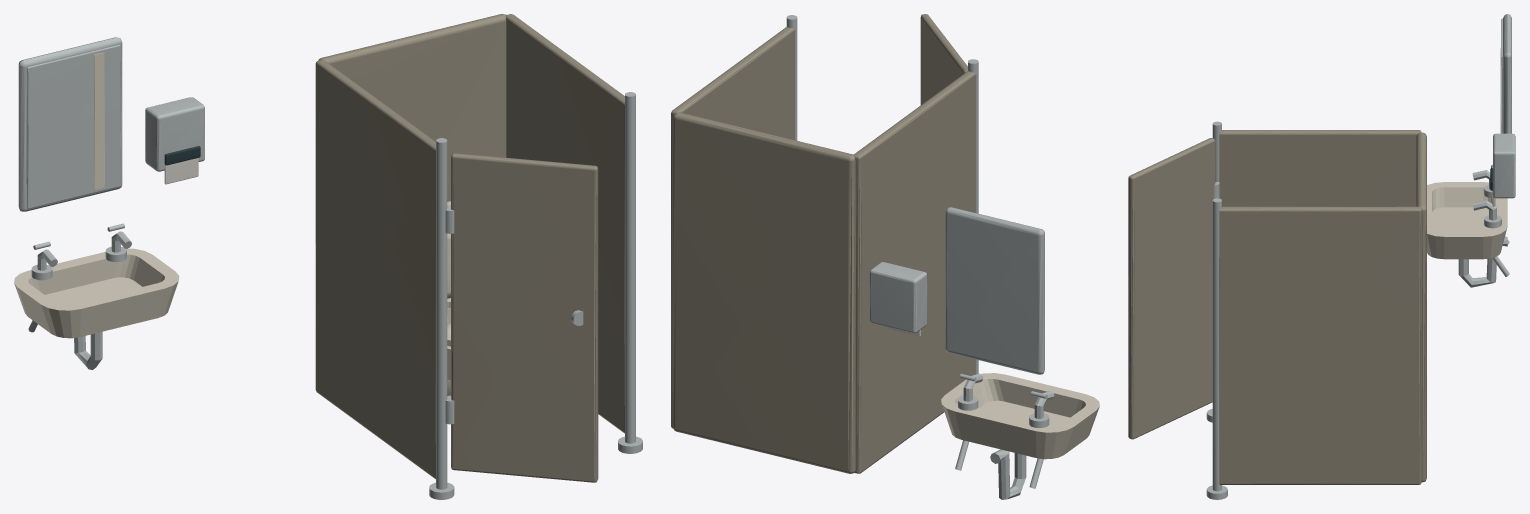
File: 13_restroom_starter_assembly.glb
3 views of the same model, side by side, from view 1: azimuth 30°, elevation 25°; view 2: azimuth 150°, elevation 25°; view 3: azimuth 270°, elevation 25° (orthographic). The views are drawn at different scales.
Visible parts, largest first — view 1: 13_starter_cubicle__Static, 13_starter_cubicle__door_moving, 13_starter_mirror__Static, 13_starter_washstand__Static, 13_starter_towel_dispenser__Static; view 2: 13_starter_cubicle__Static, 13_starter_mirror__Static, 13_starter_washstand__Static, 13_starter_towel_dispenser__Static, 13_starter_cubicle__door_moving; view 3: 13_starter_cubicle__Static, 13_starter_cubicle__door_moving, 13_starter_washstand__Static, 13_starter_towel_dispenser__Static, 13_starter_mirror__Static.
Boxes of the visible parts, x1,y1,x2,y2 form: 13_starter_cubicle__Static: (315, 14, 642, 499); 13_starter_cubicle__door_moving: (451, 153, 598, 482); 13_starter_mirror__Static: (18, 37, 122, 211); 13_starter_washstand__Static: (14, 223, 179, 369); 13_starter_towel_dispenser__Static: (145, 97, 204, 184); 13_starter_cubicle__Static: (671, 15, 978, 473); 13_starter_mirror__Static: (945, 207, 1044, 374); 13_starter_washstand__Static: (941, 373, 1099, 499); 13_starter_towel_dispenser__Static: (869, 262, 927, 336); 13_starter_cubicle__door_moving: (920, 14, 967, 104); 13_starter_cubicle__Static: (1206, 121, 1426, 499); 13_starter_cubicle__door_moving: (1128, 138, 1215, 439); 13_starter_washstand__Static: (1427, 164, 1509, 287); 13_starter_towel_dispenser__Static: (1490, 133, 1515, 206); 13_starter_mirror__Static: (1500, 14, 1511, 133).
Bounding box in the file's own units: 2.75 × 2.08 × 2.39.
